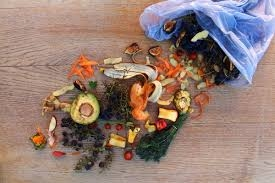kitchen_waste: (102, 58, 165, 106), (66, 92, 103, 127), (127, 80, 153, 121), (66, 50, 100, 80), (171, 88, 192, 115), (155, 54, 179, 77), (45, 113, 60, 149), (28, 127, 49, 152), (155, 106, 179, 123), (105, 132, 128, 149), (122, 40, 141, 57), (147, 44, 165, 57), (120, 149, 135, 161), (114, 123, 124, 132), (102, 122, 111, 131)
